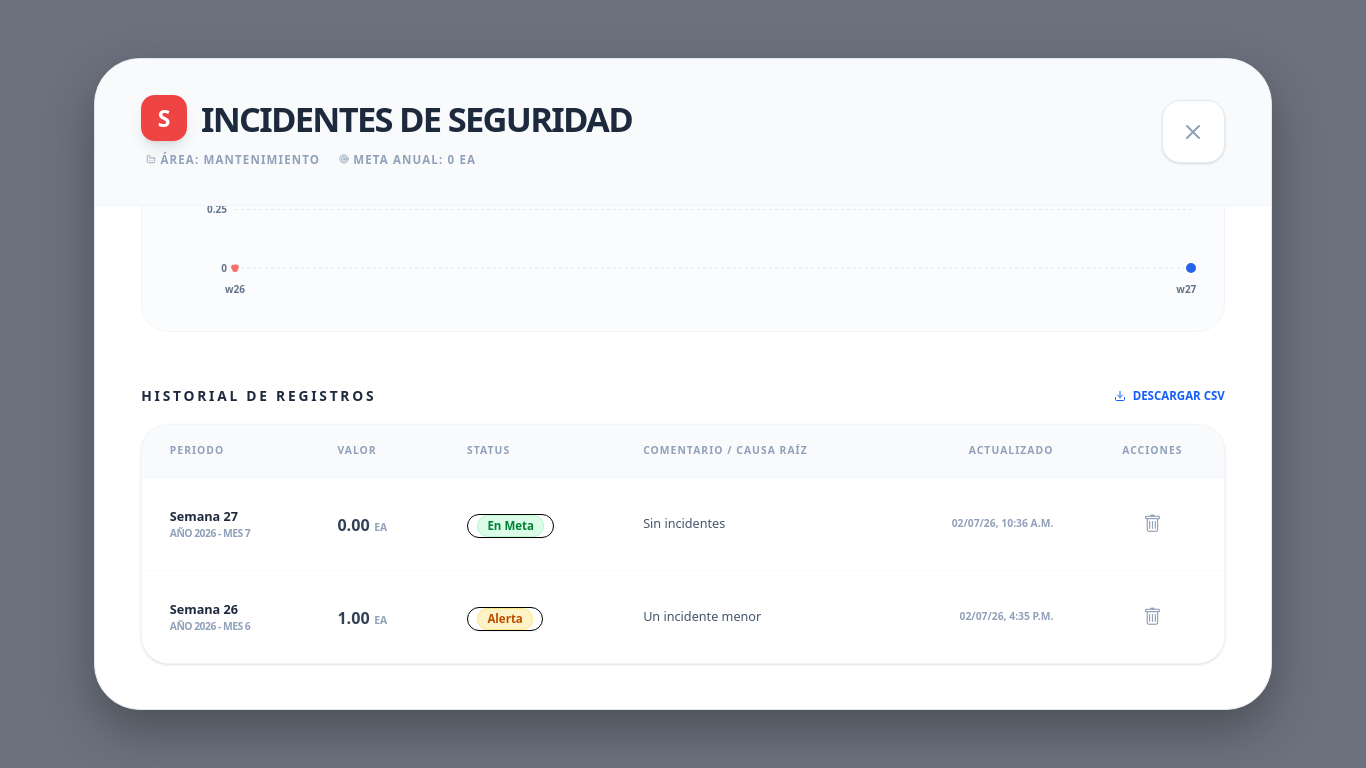
it: KPIDetailsModal - Pruebas de Eliminación de Histórico y Robustez › debería abrir el modal de confirmación mostrando detalles del registro al hacer clic en eliminar
(page scrolled)
What coordinates should you click on to do the following:
click the button titled "Eliminar registro" in the row of "0.00"
I would click on:
 (1152, 524)
Its box is [1134,501,1171,547].
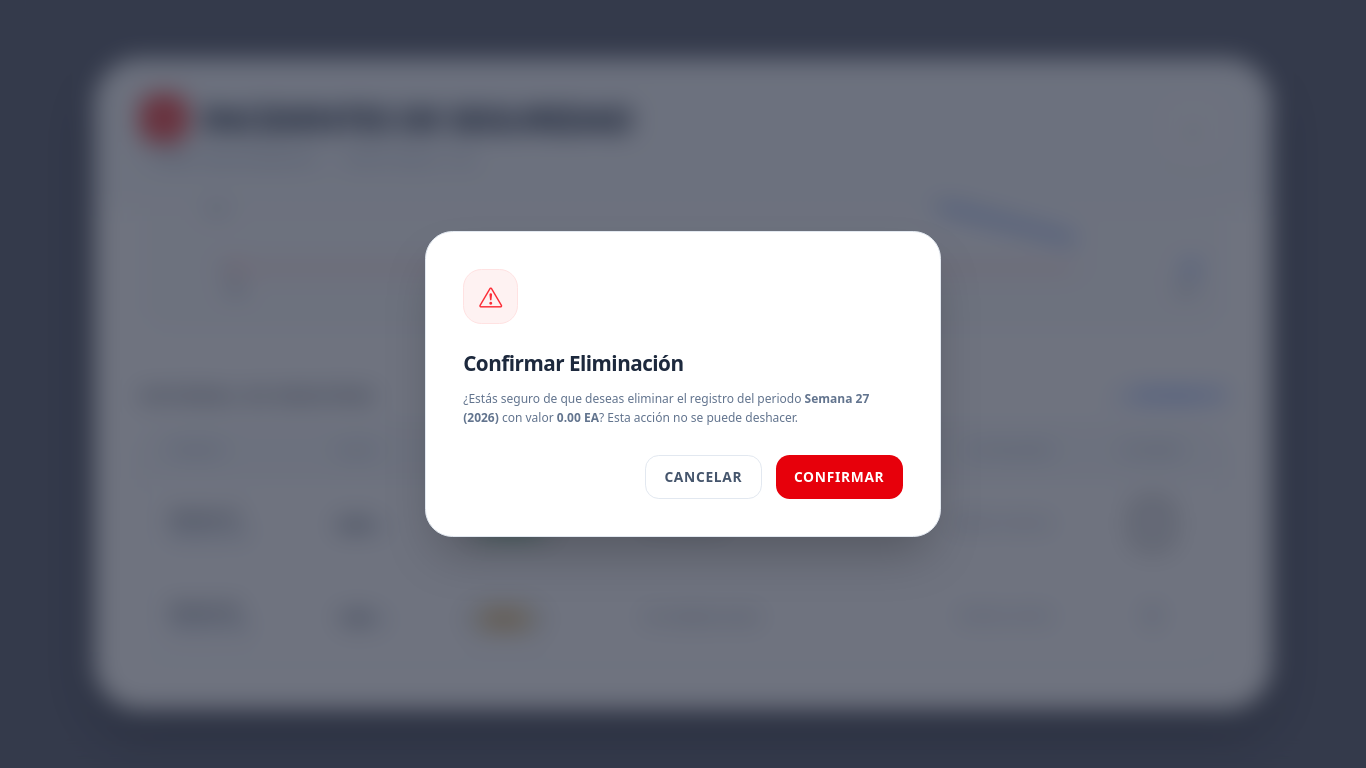
Expected: the heading "Confirmar Eliminación" is shown, [463,349,684,377]
